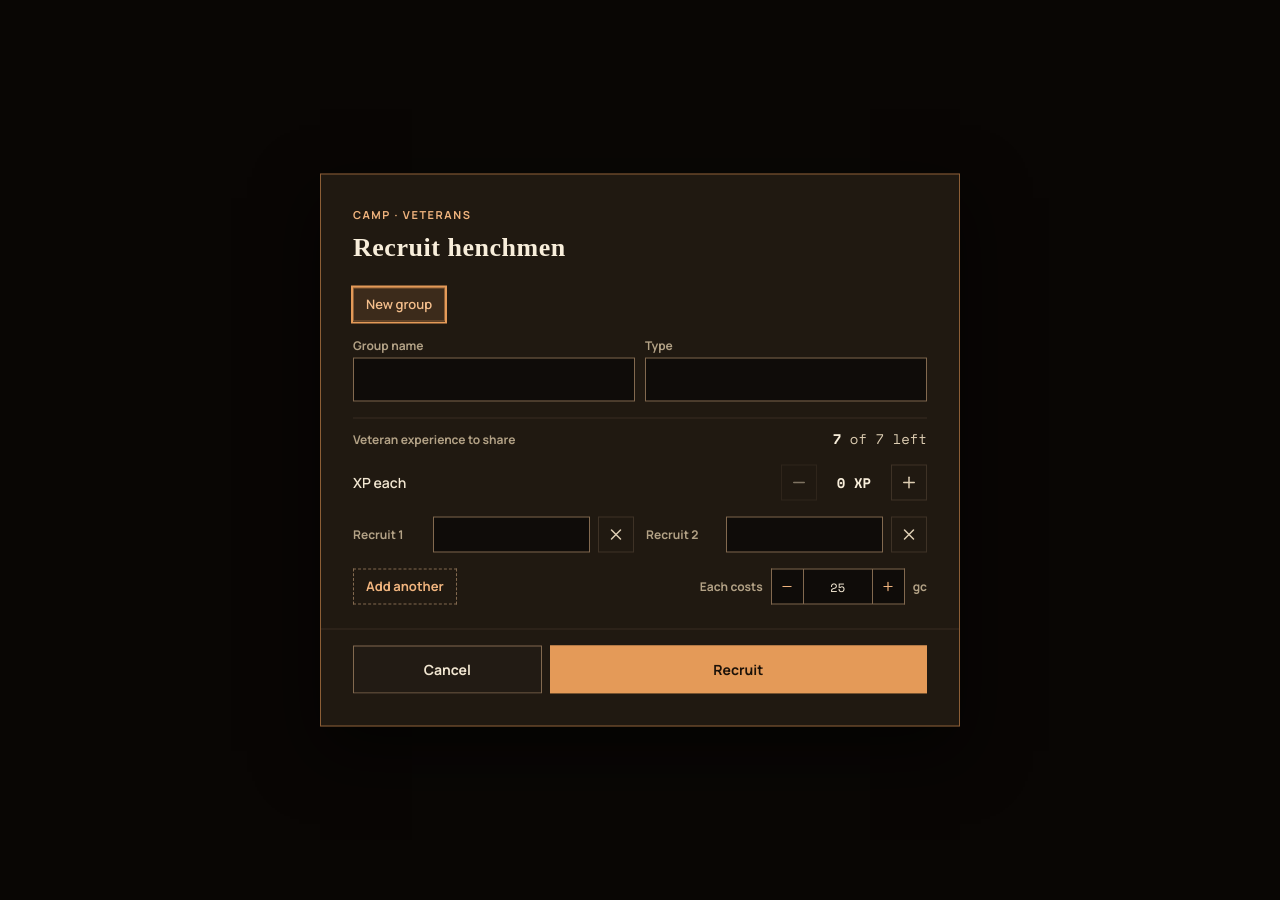
Test case: Camp's Recruit henchmen › won't recruit a new group without a name
Later steps or results of the test are not shown.
Click the button "Recruit": (738, 670) [550,646,927,694]
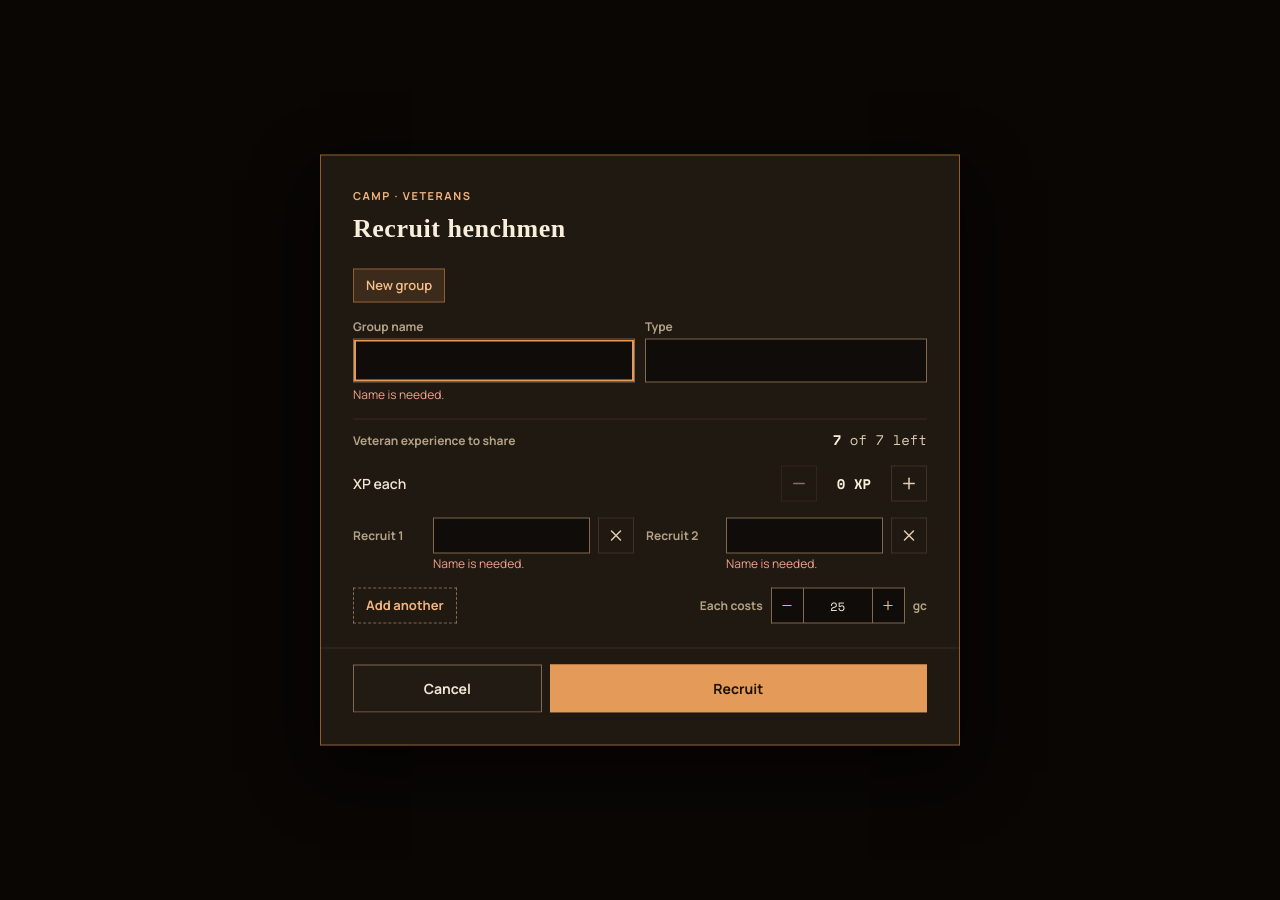
Expected: the text "Name is needed." is shown 3 times, [353,386,444,402]; [433,554,524,572]; [726,554,817,572]
In the field labelled "Group name": (494, 360) [353,338,635,382], type "Bravos"
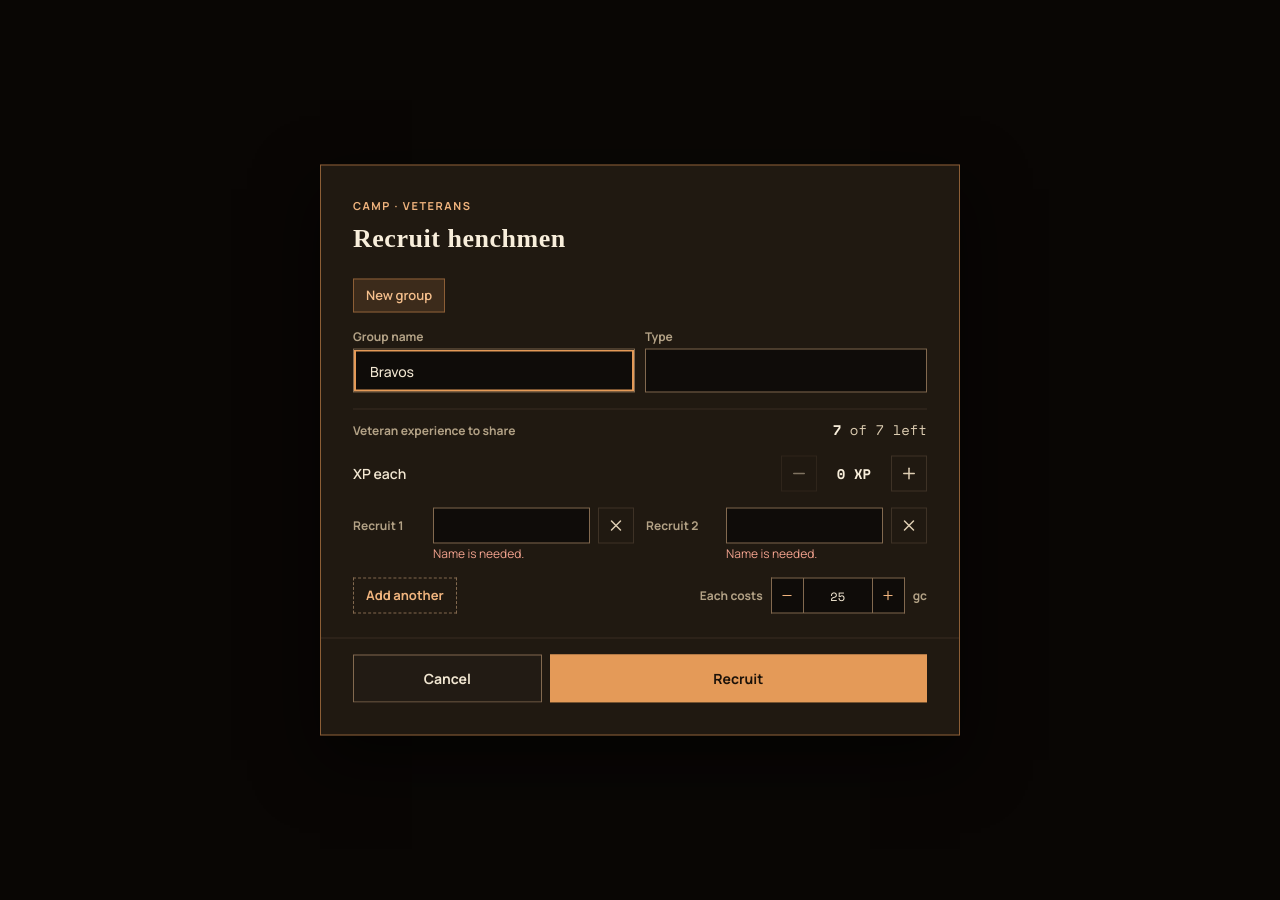
In the field labelled "Recruit 1": (512, 526) [433,508,590,544], type "Otto"
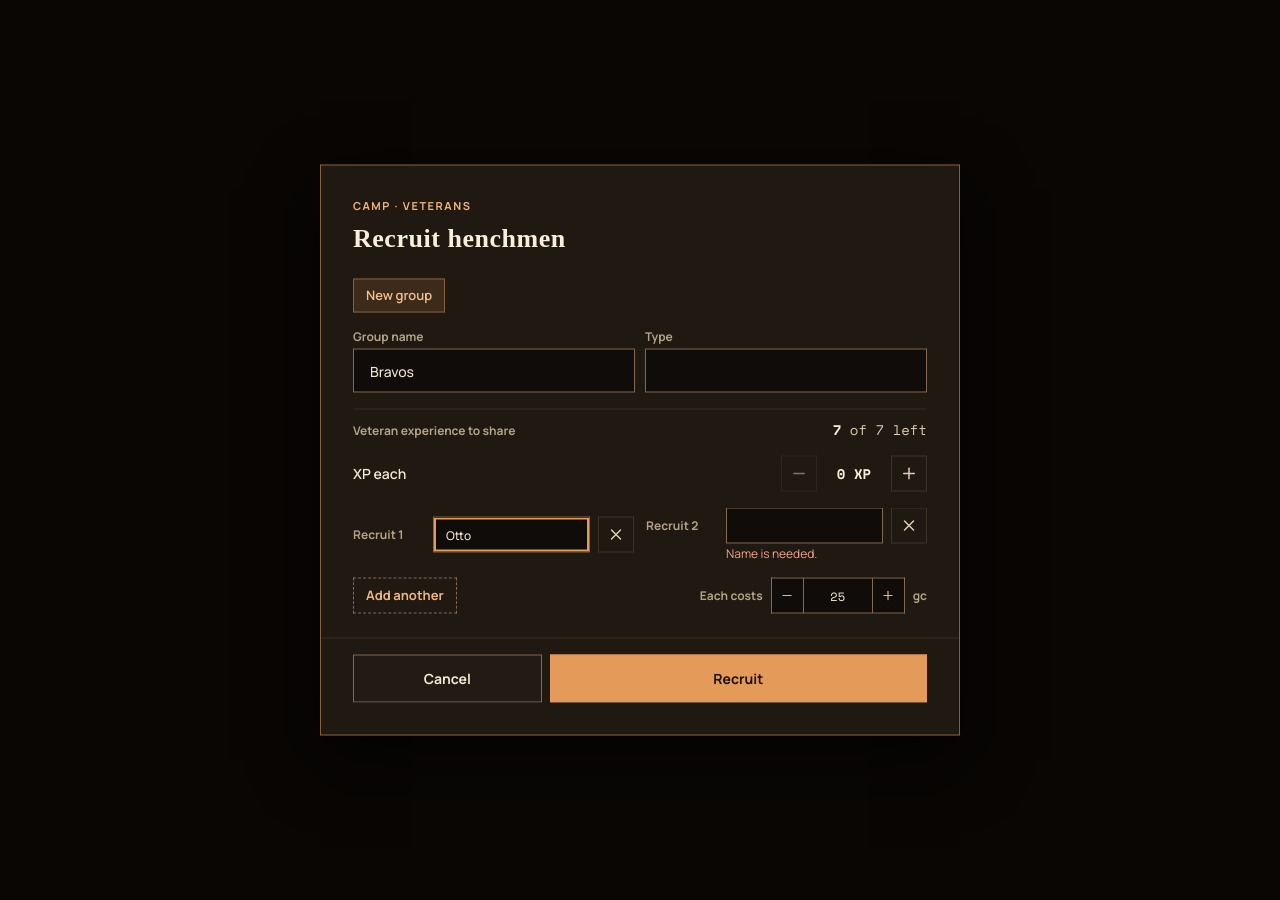
In the field labelled "Recruit 2": (804, 526) [726,508,883,544], type "Hans"
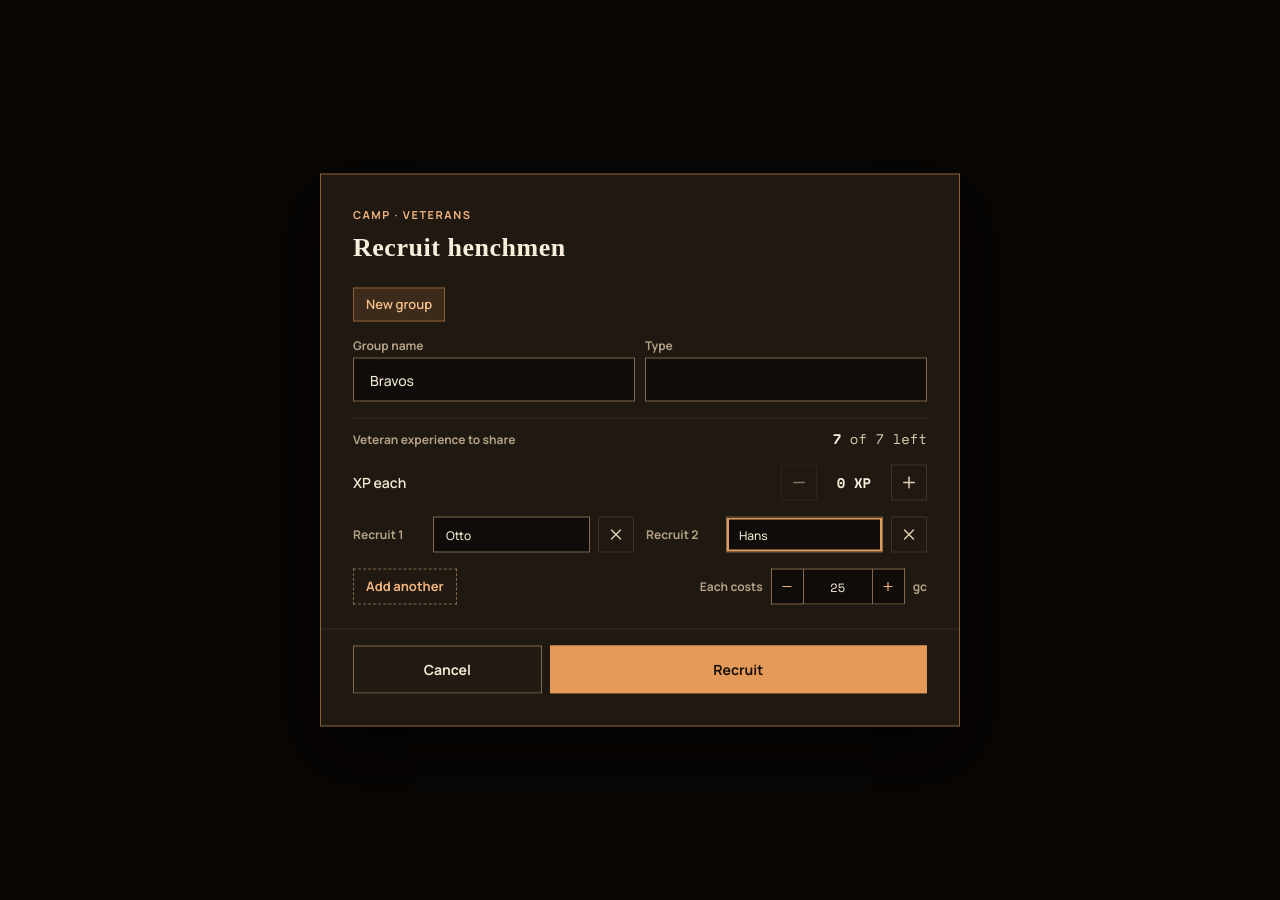
Expected: the text "Name is needed." is gone
